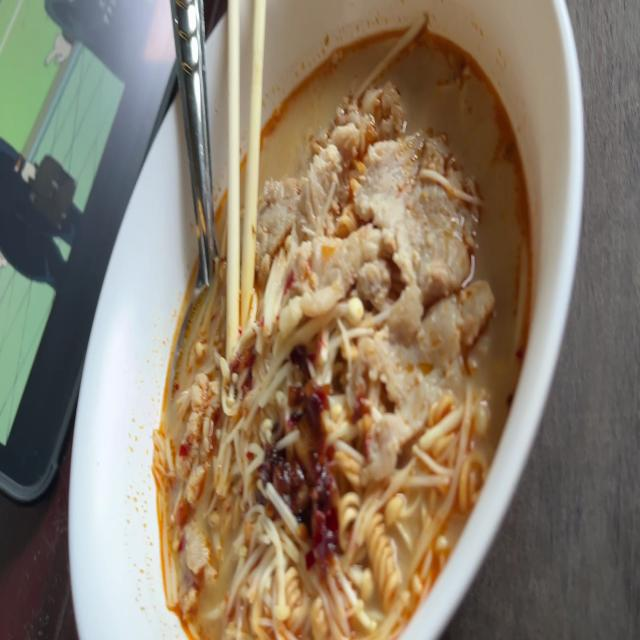noodle: (143, 6, 540, 640)
